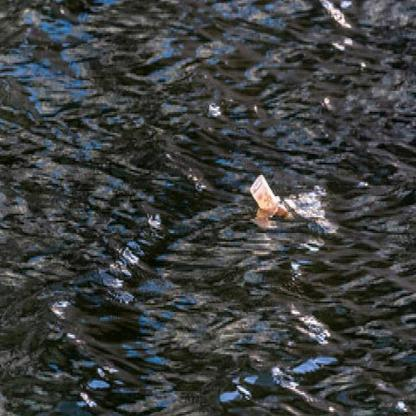plastic bottle: (247, 176, 287, 217)
